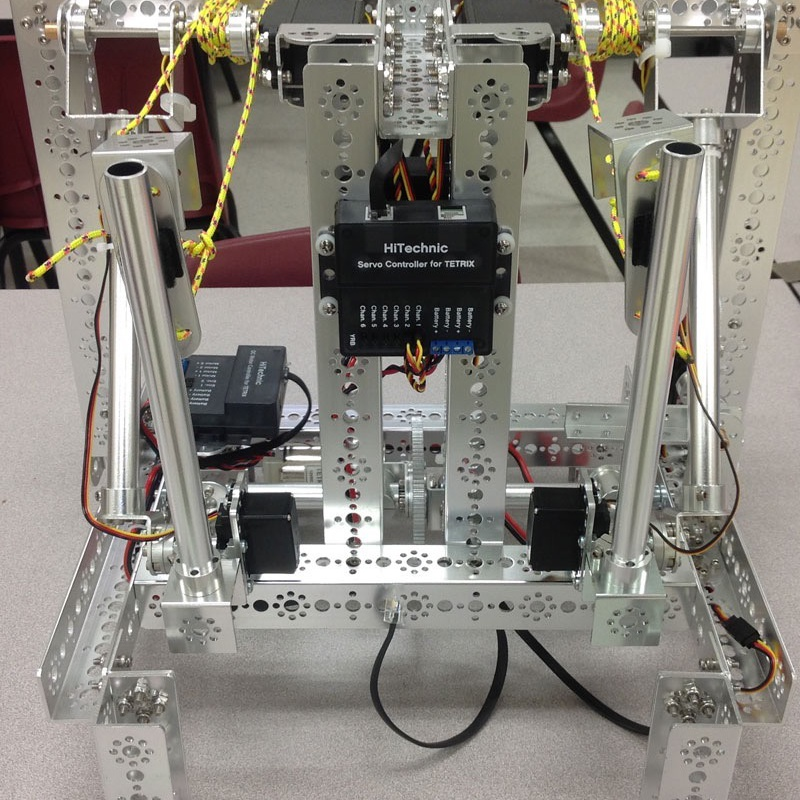robot: (1, 0, 800, 800)
